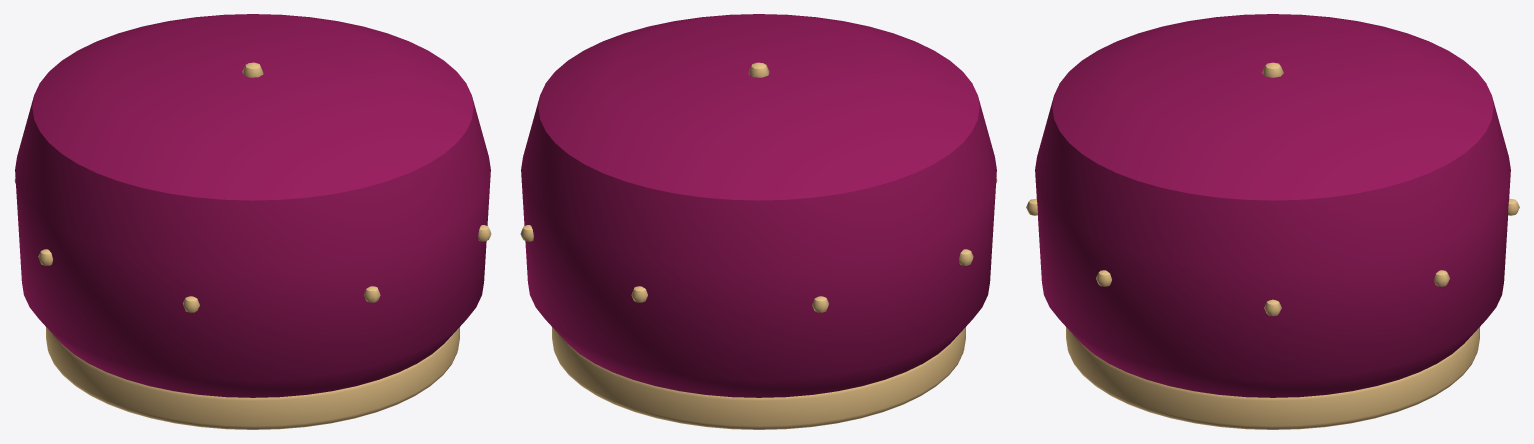
Rendered from KIT_Puff.glb.
3 renders of one model, left to right at view 1: azimuth 30°, elevation 25°; view 2: azimuth 150°, elevation 25°; view 3: azimuth 270°, elevation 25°, orthographic.
Visible parts, largest first — view 1: KIT_Puff; view 2: KIT_Puff; view 3: KIT_Puff.
Part boxes in pixels (bbox=[...]): KIT_Puff: bbox=[14, 14, 491, 429]; KIT_Puff: bbox=[520, 14, 997, 429]; KIT_Puff: bbox=[1026, 14, 1519, 429].
Bounding box in the file's own units: 0.716 × 0.451 × 0.716.
